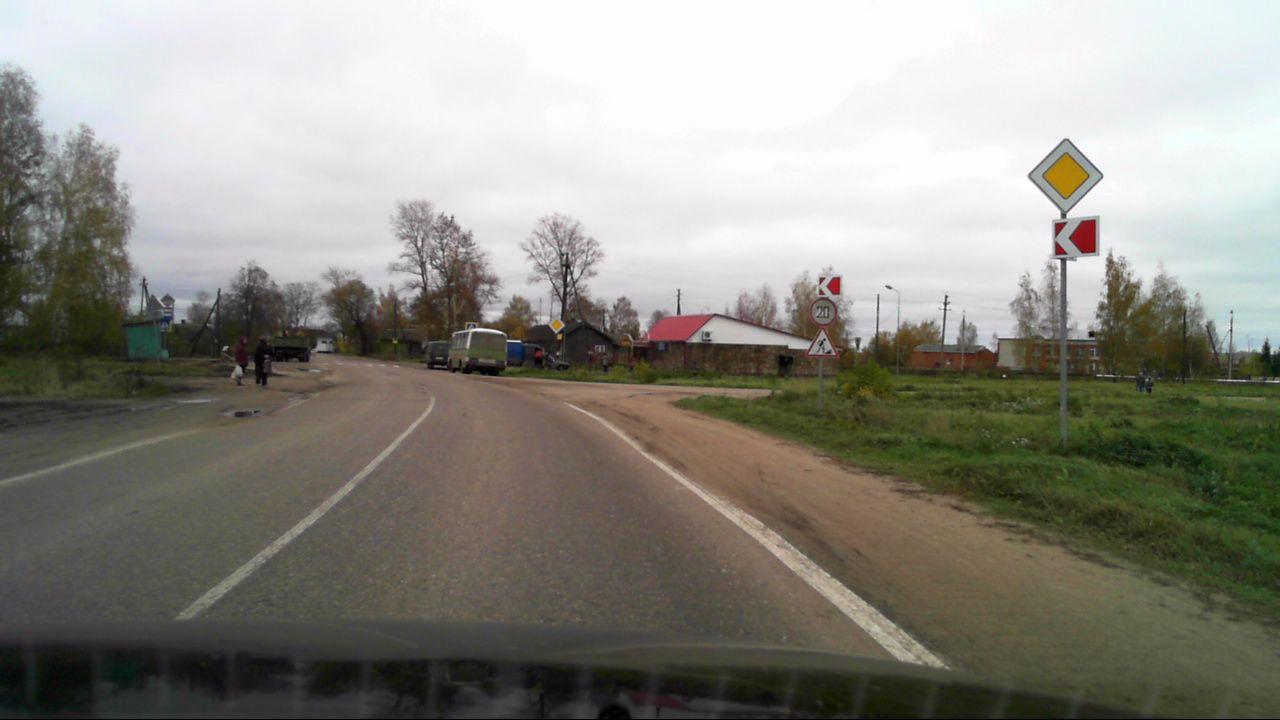road_sign: (1027, 138, 1105, 215), (1052, 216, 1101, 258), (804, 324, 840, 357), (810, 297, 838, 327), (818, 274, 842, 296)
